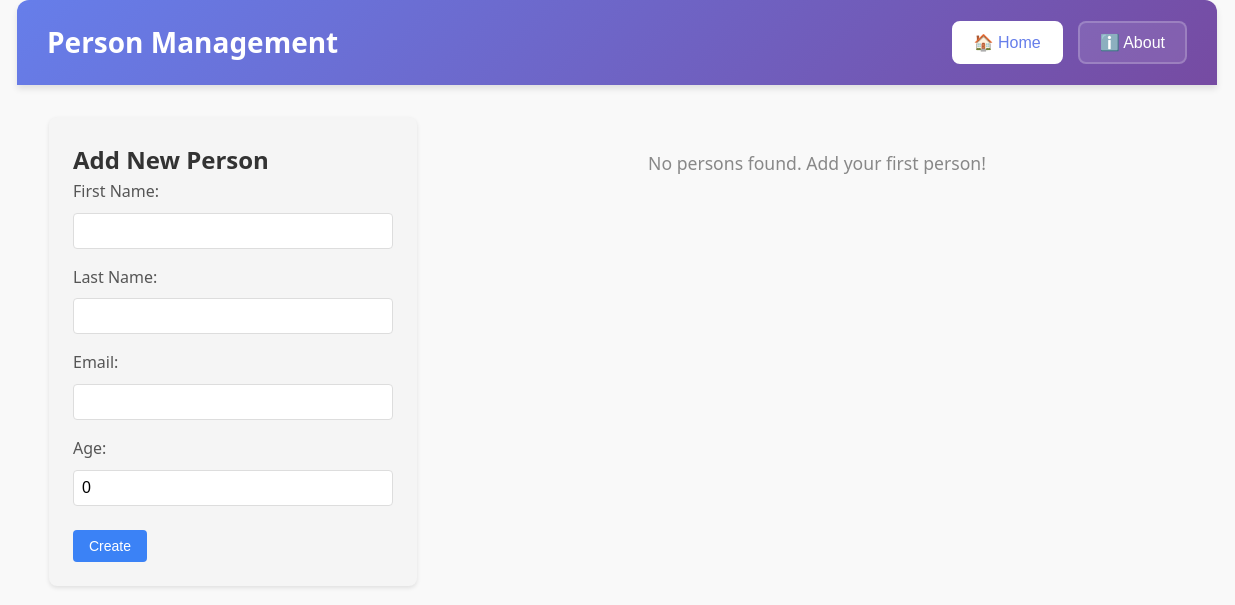
Test: App › component integration › should coordinate between form and list
expect the text "No persons found. Add your first person!" is shown: met, box [648, 151, 986, 175]
In the field labelled "First Name:": (233, 231) [73, 213, 393, 249], type "John"
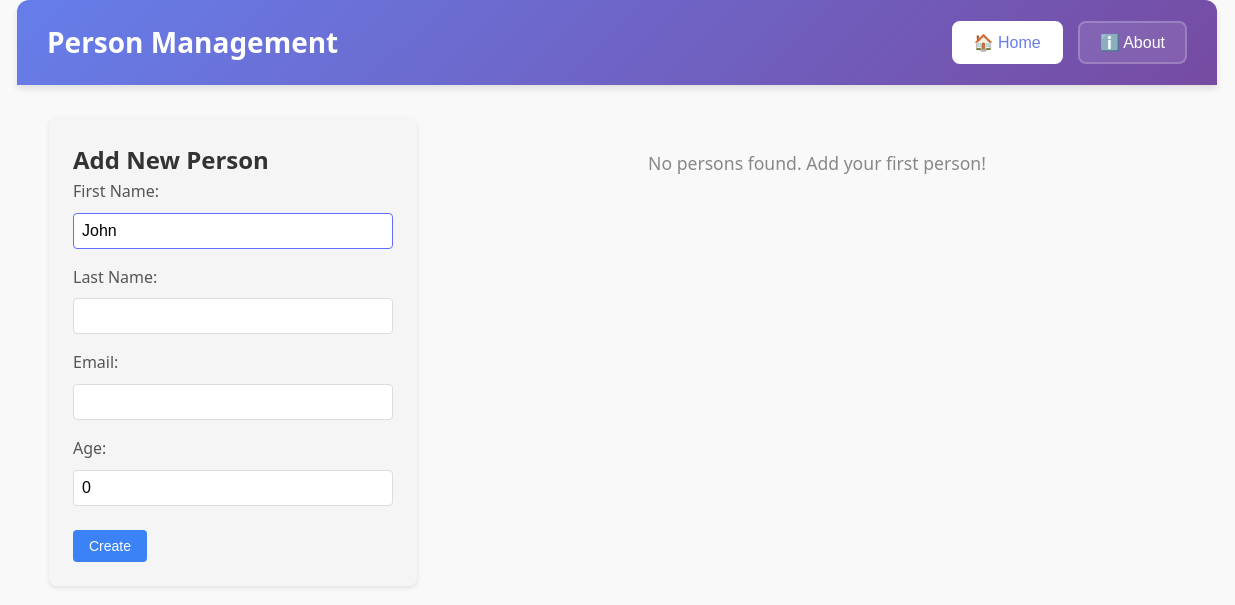
In the field labelled "Last Name:": (233, 316) [73, 298, 393, 334], type "Doe"
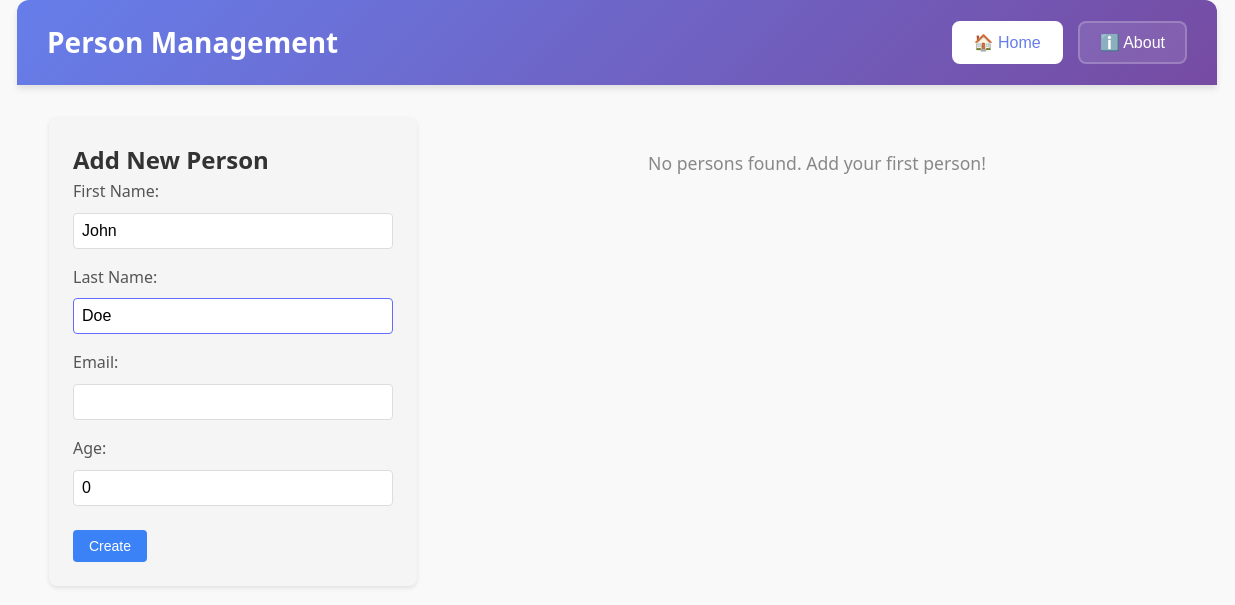
In the field labelled "Email:": (233, 402) [73, 384, 393, 420], type "john@test.com"
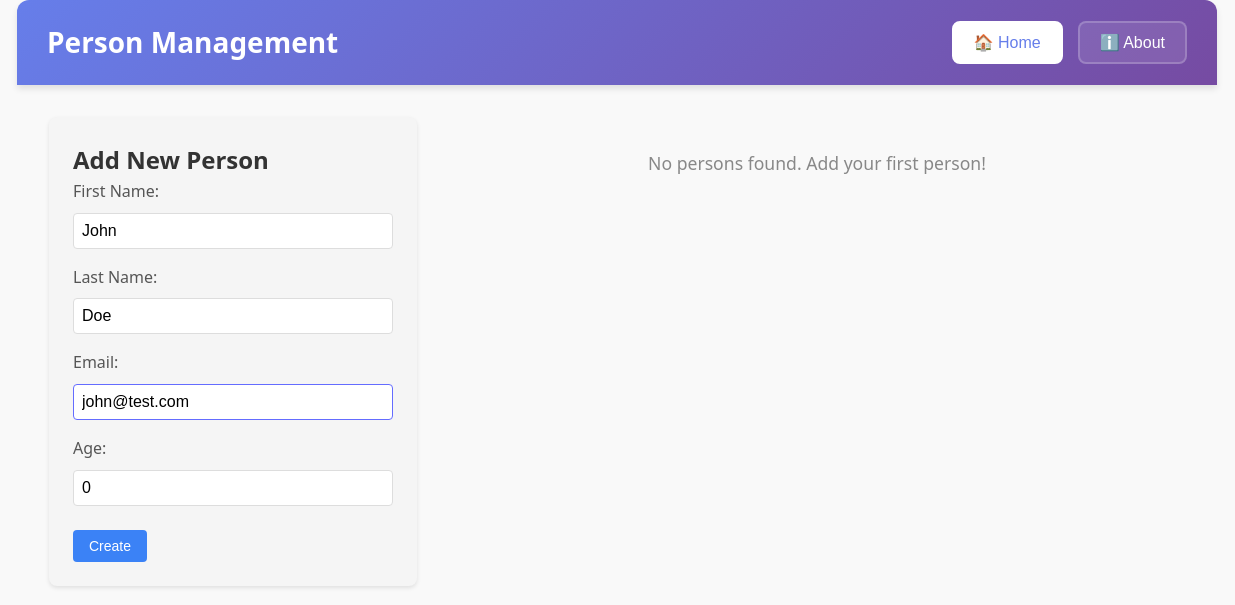
Click the button "Create": (110, 546) [73, 530, 147, 562]
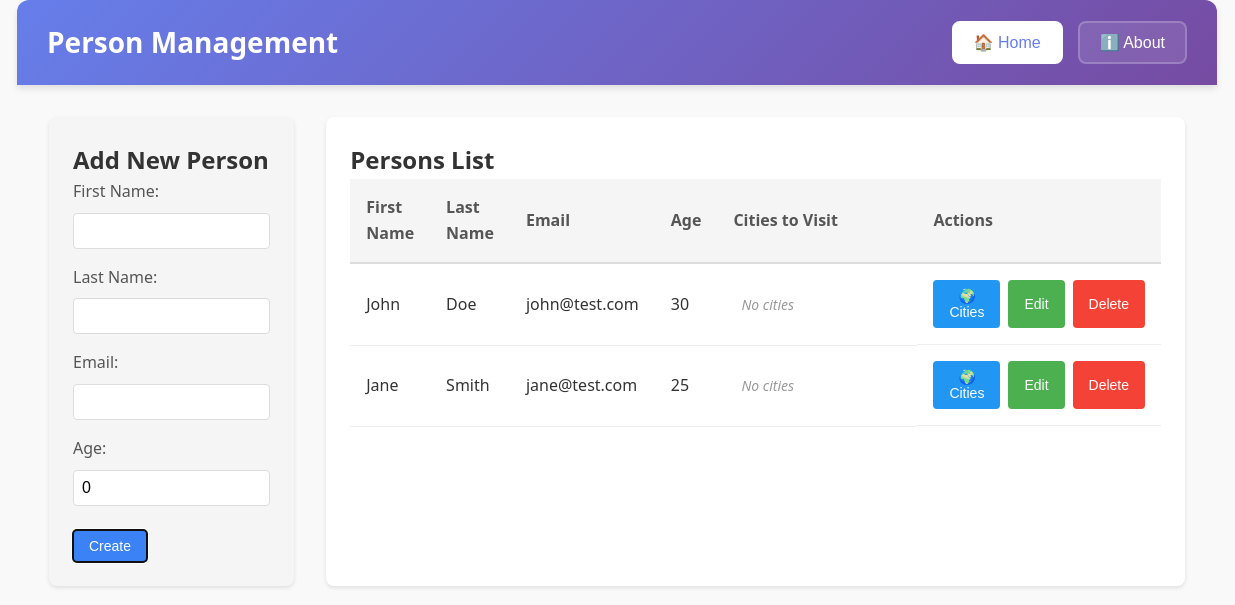
expect the text "John" is shown: met, box [350, 263, 430, 345]
